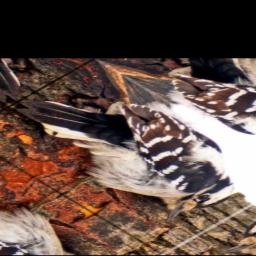Woodpecker: (0, 61, 256, 246)
